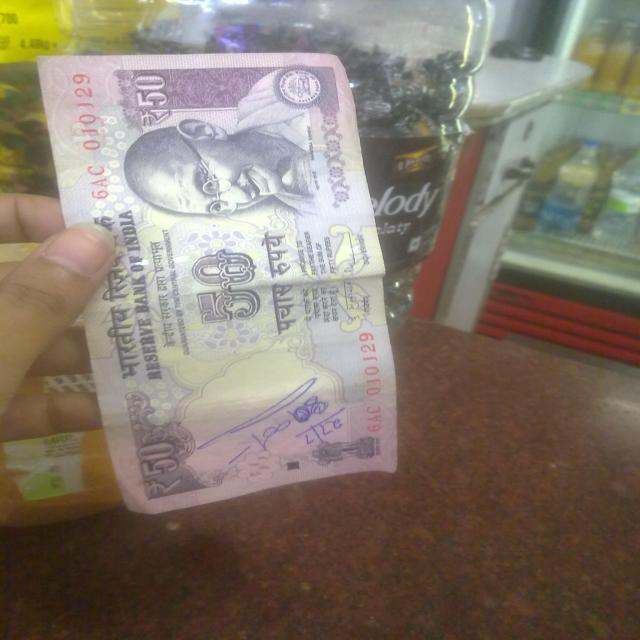50rs: (37, 49, 436, 514)
